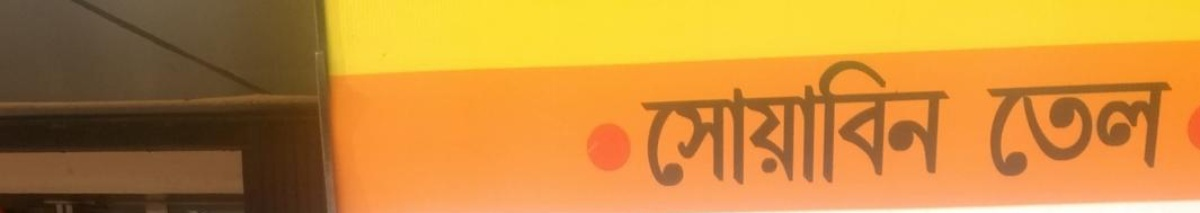text: (641, 59, 656, 189), (657, 59, 672, 189), (673, 59, 688, 189), (689, 59, 704, 189), (705, 59, 720, 189), (721, 59, 736, 189), (737, 59, 752, 189), (753, 59, 768, 189), (769, 59, 784, 189), (785, 59, 800, 189), (801, 59, 816, 189), (817, 59, 832, 189), (833, 59, 848, 189), (849, 59, 864, 189), (865, 59, 880, 189), (881, 59, 896, 189), (897, 59, 912, 189), (913, 59, 928, 189), (929, 59, 944, 189), (993, 81, 1008, 177), (1009, 81, 1024, 177), (1025, 81, 1040, 177), (1041, 81, 1056, 177), (1057, 81, 1072, 177), (1073, 81, 1088, 177), (1089, 81, 1104, 177), (1105, 81, 1120, 177), (1121, 81, 1136, 177), (1137, 81, 1152, 177), (1153, 81, 1168, 177), (985, 81, 992, 177), (945, 59, 950, 189), (1169, 81, 1173, 177), (639, 59, 640, 189)
